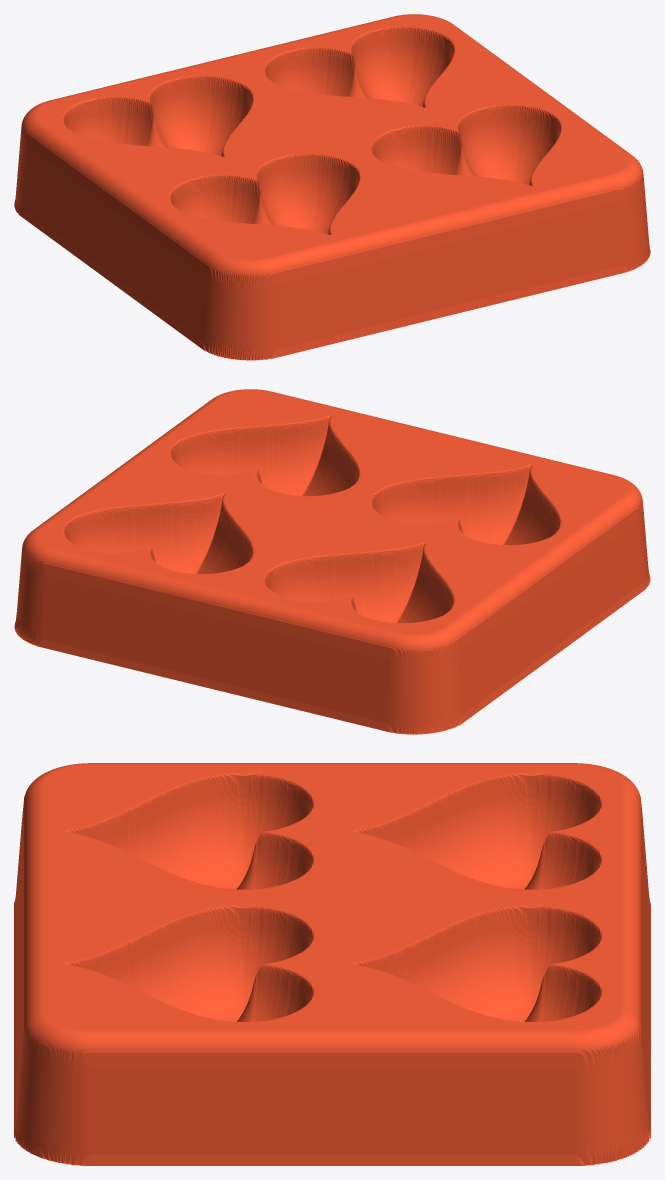
File: mold.glb
3 renders of one model, top to bottom at view 1: azimuth 30°, elevation 25°; view 2: azimuth 150°, elevation 25°; view 3: azimuth 270°, elevation 25°, orthographic. The views are drawn at different scales.
Parts seen in each view (by area): view 1: geometry_0; view 2: geometry_0; view 3: geometry_0.
Boxes of the visible parts, x1,y1,x2,y2 form: geometry_0: (14,14,650,360); geometry_0: (14,389,650,734); geometry_0: (14,763,650,1165).
Bounding box in the file's own units: 0.0808 × 0.0159 × 0.0748.
